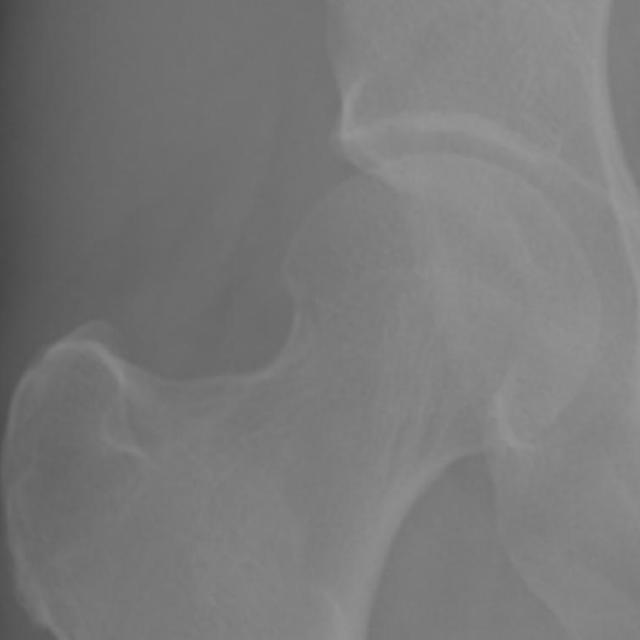Fitted_femural_head: (324, 157, 432, 324)
